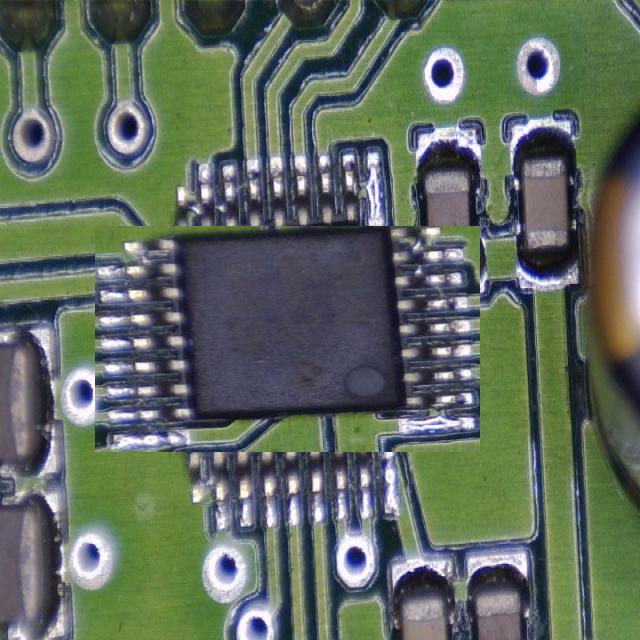Incorrect_installation: (95, 226, 480, 451)
